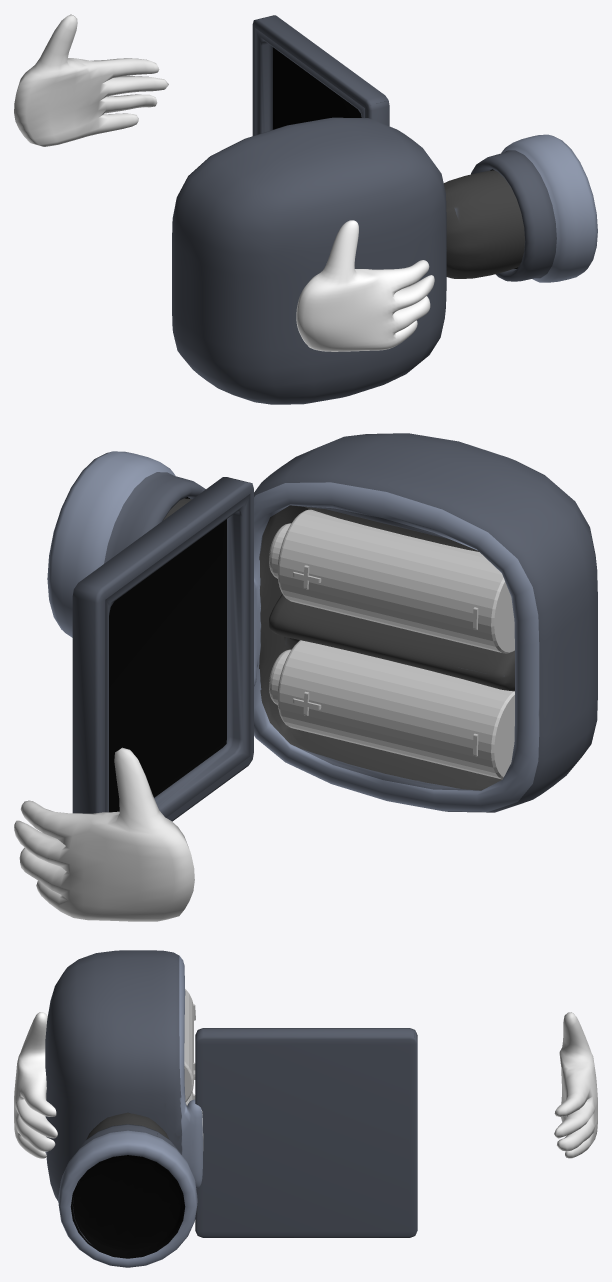
The model's file is CameraVRJAM.fbx.
3 renders of one model, top to bottom at view 1: azimuth 30°, elevation 25°; view 2: azimuth 150°, elevation 25°; view 3: azimuth 270°, elevation 25°, orthographic. The views are drawn at different scales.
Visible parts, largest first — view 1: Cam, Lens, Hand.001, Screen; view 2: Cam, Screen, Batteri, Batteri.001, Hand.001, Lens; view 3: Screen, Cam, Lens, Hand.001, Batteri.
Part boxes in pixels (bbox=[...]): Cam: bbox=[172, 117, 524, 404]; Lens: bbox=[471, 134, 597, 282]; Hand.001: bbox=[14, 14, 168, 146]; Screen: bbox=[252, 15, 389, 135]; Cam: bbox=[163, 433, 597, 812]; Screen: bbox=[72, 477, 253, 821]; Batteri: bbox=[269, 509, 514, 653]; Batteri.001: bbox=[269, 640, 514, 779]; Hand.001: bbox=[14, 747, 194, 921]; Lens: bbox=[47, 451, 205, 637]; Screen: bbox=[195, 1028, 417, 1237]; Cam: bbox=[14, 950, 203, 1201]; Lens: bbox=[58, 1124, 197, 1267]; Hand.001: bbox=[554, 1012, 597, 1158]; Batteri: bbox=[184, 989, 195, 1101].
Bounding box in the file's own units: 83.26 × 52.32 × 121.
